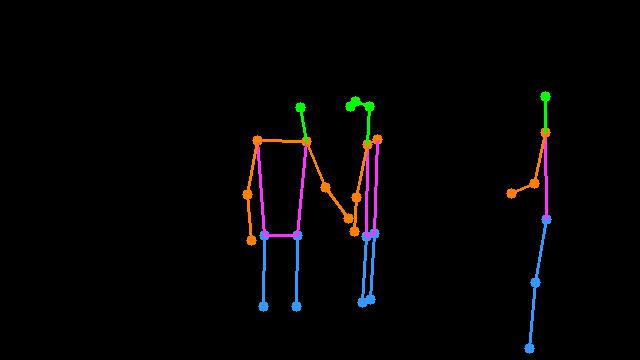normal: (234, 77, 405, 324)
